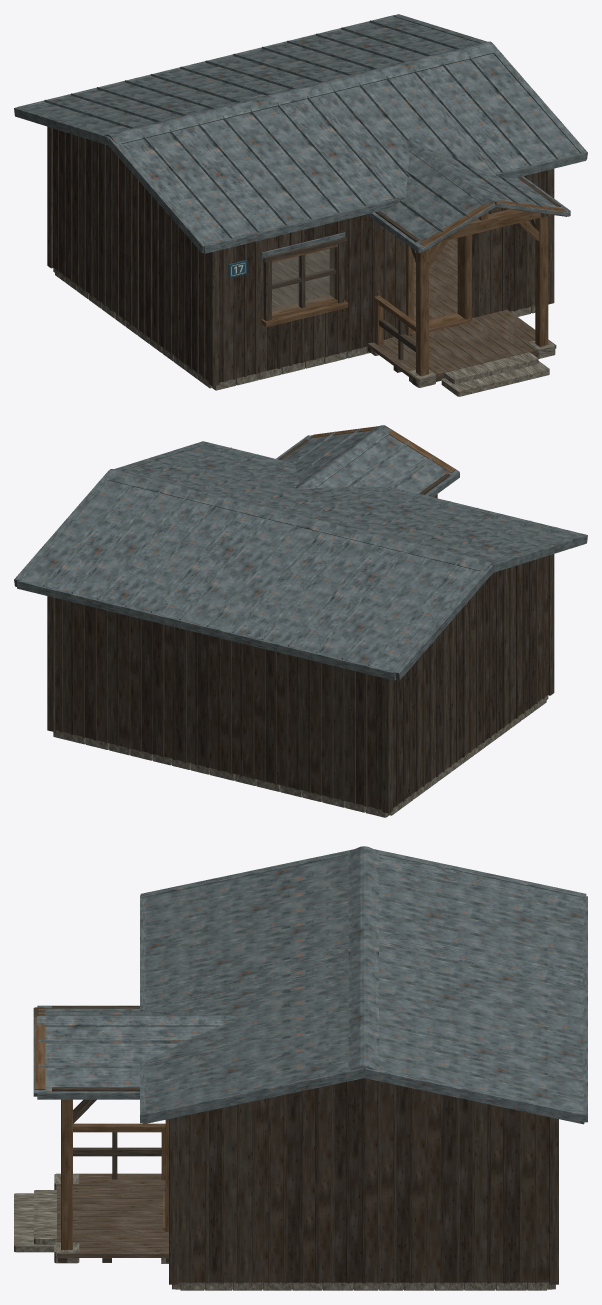
The model's file is forester_hut.glb.
3 renders of one model, top to bottom at view 1: azimuth 30°, elevation 25°; view 2: azimuth 150°, elevation 25°; view 3: azimuth 270°, elevation 25°, orthographic. The views are drawn at different scales.
Visible parts, largest first — view 1: SM_Hut_MainRoof, SM_Hut_Cladding, SM_Hut_Ridge_And_Flashings, SM_Hut_PorchTimber, SM_Hut_PorchRoof, SM_Hut_WindowFrame, SM_Hut_Floorboards, SM_Hut_Timber_Frame, SM_Hut_PorchFootings, SM_Hut_WindowGlazing, SM_Hut_Foundation, SM_Hut_DoorFrame; view 2: SM_Hut_Cladding, SM_Hut_MainRoof, SM_Hut_Ridge_And_Flashings, SM_Hut_PorchRoof, SM_Hut_Timber_Frame, SM_Hut_Foundation, SM_Hut_PorchTimber; view 3: SM_Hut_MainRoof, SM_Hut_Cladding, SM_Hut_Ridge_And_Flashings, SM_Hut_PorchTimber, SM_Hut_PorchRoof, SM_Hut_Timber_Frame, SM_Hut_Foundation, SM_Hut_PorchFootings.
Boxes of the visible parts, x1=… form: SM_Hut_MainRoof: x1=23, y1=17, x2=579, y2=243; SM_Hut_Cladding: x1=53, y1=128, x2=546, y2=382; SM_Hut_Ridge_And_Flashings: x1=14, y1=14, x2=587, y2=253; SM_Hut_PorchTimber: x1=367, y1=176, x2=566, y2=386; SM_Hut_PorchRoof: x1=381, y1=149, x2=561, y2=245; SM_Hut_WindowFrame: x1=261, y1=232, x2=348, y2=327; SM_Hut_Floorboards: x1=272, y1=238, x2=457, y2=321; SM_Hut_Timber_Frame: x1=47, y1=126, x2=554, y2=386; SM_Hut_PorchFootings: x1=371, y1=340, x2=555, y2=396; SM_Hut_WindowGlazing: x1=272, y1=248, x2=334, y2=312; SM_Hut_Foundation: x1=53, y1=268, x2=535, y2=390; SM_Hut_DoorFrame: x1=406, y1=234, x2=471, y2=336; SM_Hut_Cladding: x1=55, y1=555, x2=548, y2=809; SM_Hut_MainRoof: x1=21, y1=444, x2=576, y2=670; SM_Hut_Ridge_And_Flashings: x1=14, y1=425, x2=587, y2=680; SM_Hut_PorchRoof: x1=282, y1=428, x2=454, y2=493; SM_Hut_Timber_Frame: x1=47, y1=554, x2=554, y2=813; SM_Hut_Foundation: x1=53, y1=695, x2=548, y2=817; SM_Hut_PorchTimber: x1=278, y1=426, x2=456, y2=498; SM_Hut_MainRoof: x1=142, y1=854, x2=585, y2=1110; SM_Hut_Cladding: x1=178, y1=1078, x2=549, y2=1283; SM_Hut_Ridge_And_Flashings: x1=33, y1=846, x2=587, y2=1124; SM_Hut_PorchTimber: x1=34, y1=1006, x2=168, y2=1262; SM_Hut_PorchRoof: x1=38, y1=1008, x2=216, y2=1090; SM_Hut_Timber_Frame: x1=169, y1=1117, x2=558, y2=1284; SM_Hut_Foundation: x1=172, y1=1282, x2=555, y2=1290; SM_Hut_PorchFootings: x1=14, y1=1173, x2=168, y2=1263.
Size of the model in its own units: 6.82 by 3.42 by 7.47.
6 materials, 1 textured.
